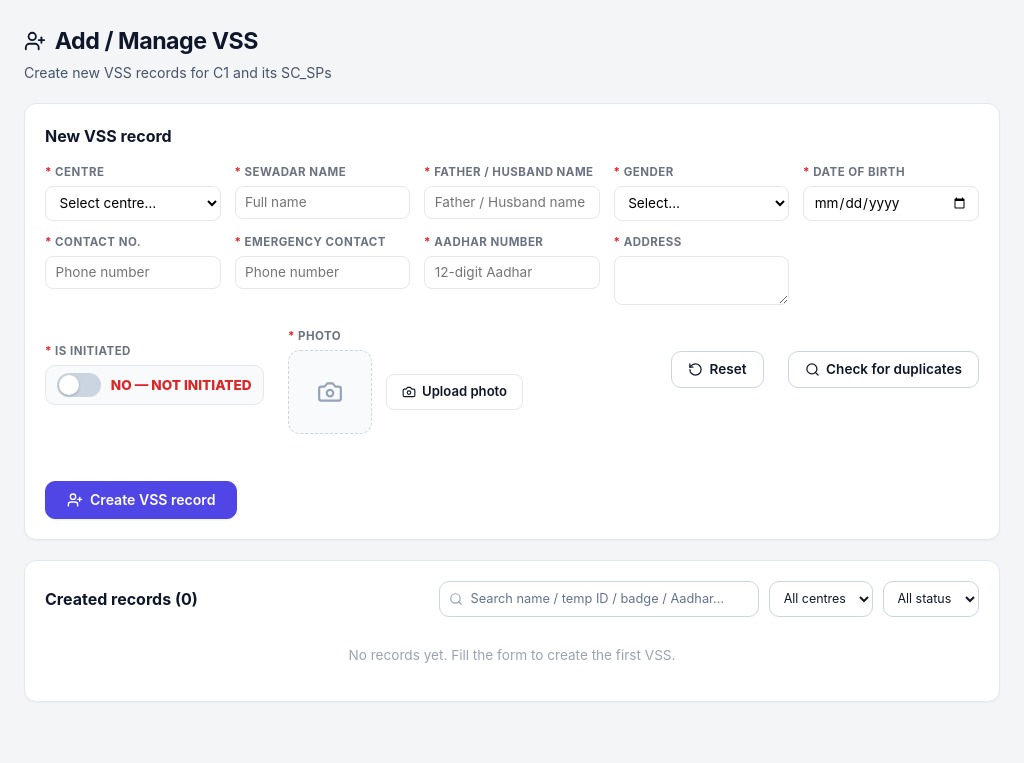
Scenario: AddVssForm reset › clears typed fields and the duplicate warning
This screenshot has width=1024, height=763.
Type "Abhey Sing" into the field with placeholder "Full name" at [322, 202], box [234,186,410,219]
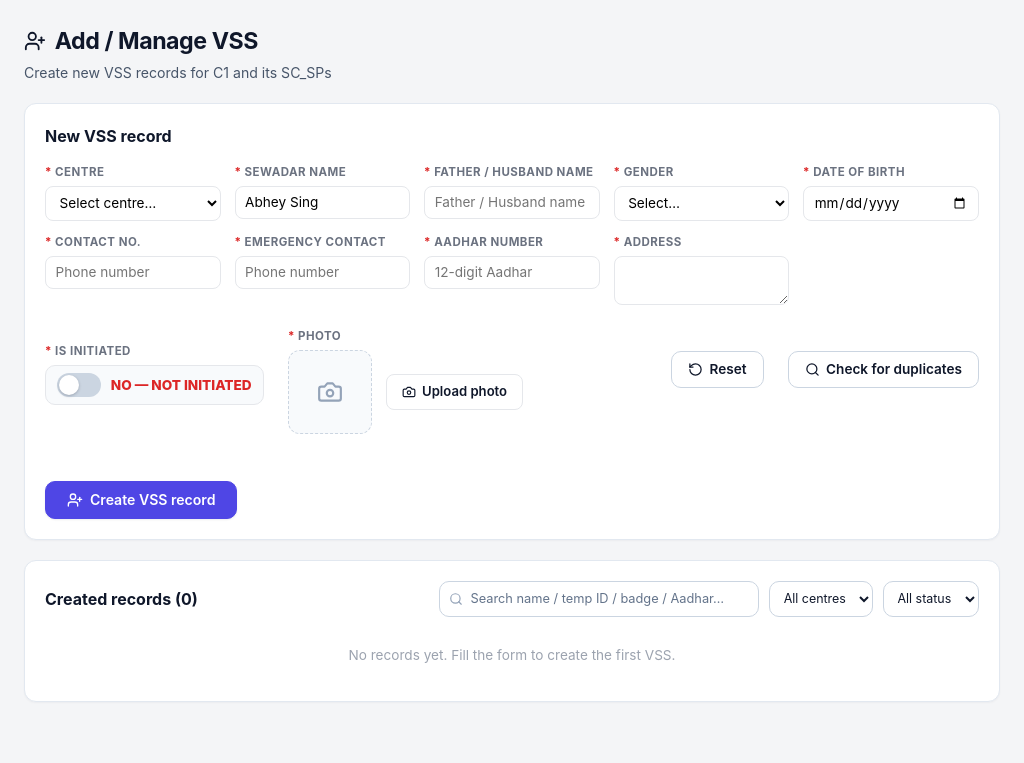
Click the button "Check for duplicates" at [883, 369], box [788,350,979,388]
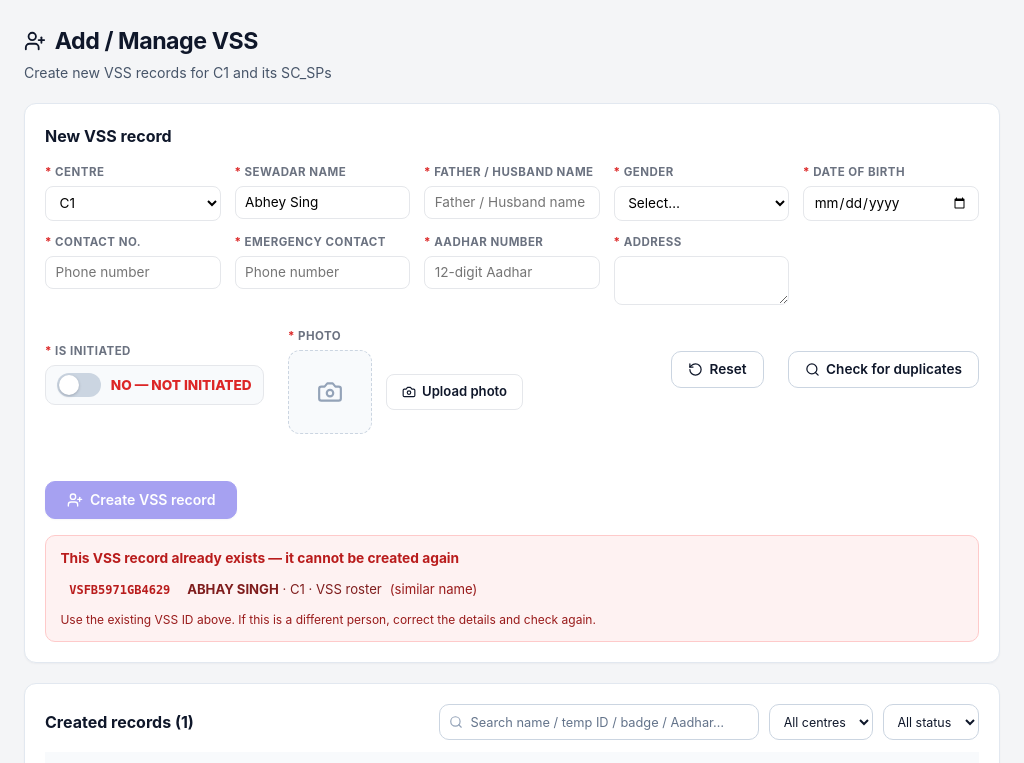
Now the text "VSFB5971GB4629" is shown, box [60,578,179,602]
Click the button "Reset" at [717, 369], box [671,350,764,388]
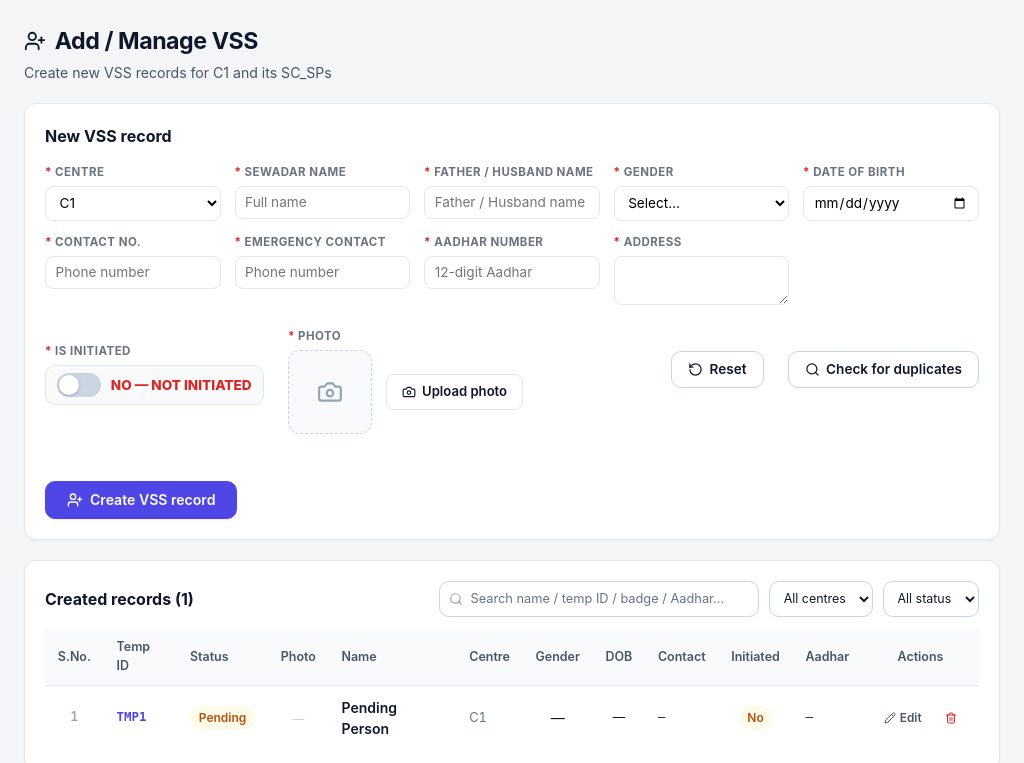
Now the field with placeholder "Full name" is empty, box [234,186,410,219]
Now the text "VSFB5971GB4629" is gone
